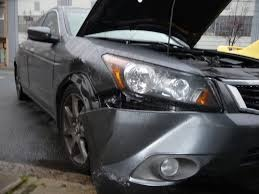Dent: (92, 115, 213, 190)
Scratch: (100, 168, 131, 188)
Smashed: (69, 47, 228, 194)
